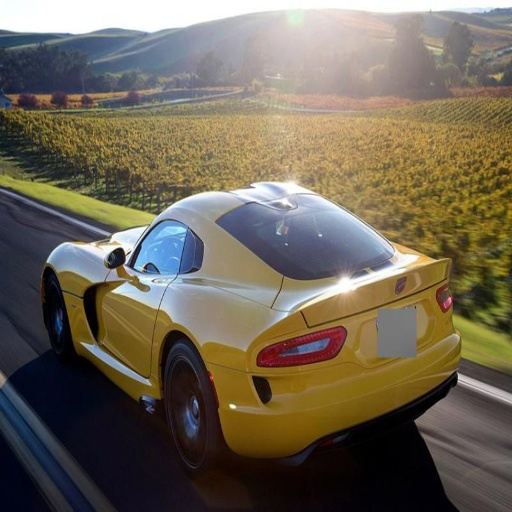back_bumper: (215, 336, 456, 459)
back_glass: (215, 195, 402, 277), (234, 24, 302, 56)
tailgate: (317, 257, 442, 335)
trunk: (291, 275, 445, 368)
